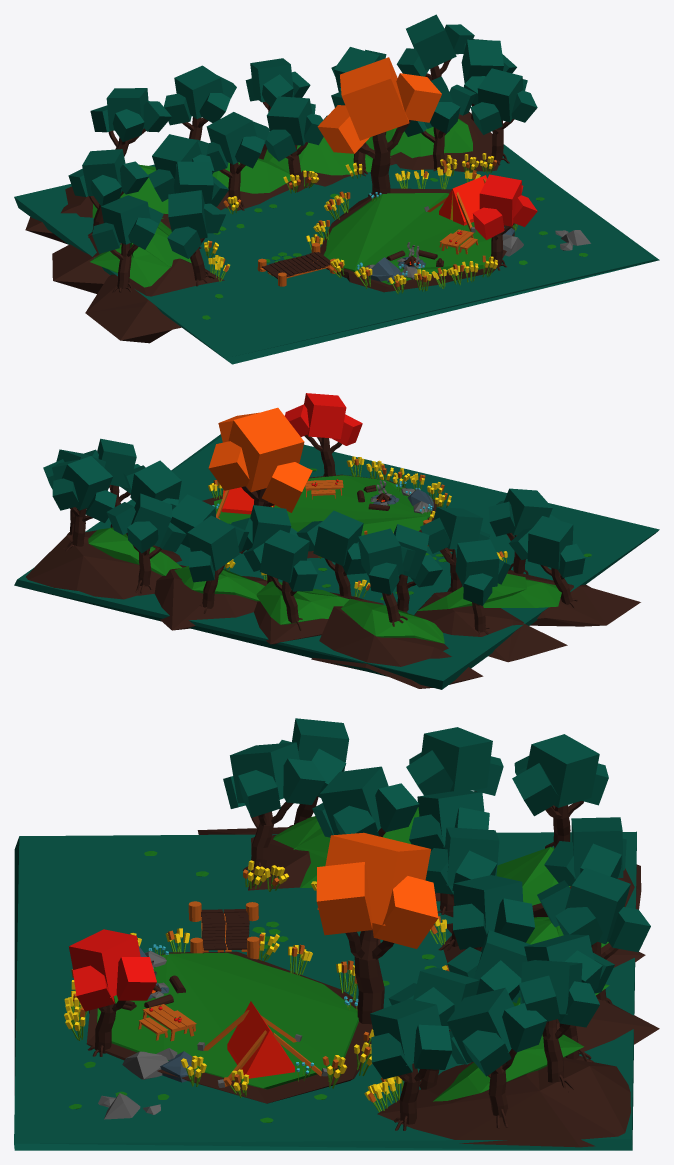
Rendered from Forest.obj.
3 renders of one model, top to bottom at view 1: azimuth 30°, elevation 25°; view 2: azimuth 150°, elevation 25°; view 3: azimuth 270°, elevation 25°, orthographic. The views are drawn at different scales.
Parts seen in each view (by area): view 1: group2136008734, group1996960513, group151683662, group603141852, group1472950353, group1052670248, group760265186, group2099061238, group1420377134, group1774111551, group684750817, group1327080236 (+22 smaller); view 2: group2136008734, group151683662, group1297782163, group1996960513, group880033640, group1242887192, group1004619122, group1776715167, group760265186, group1472950353, group1774111551, group853010250 (+21 smaller); view 3: group2136008734, group1996960513, group151683662, group1297782163, group912524470, group1327080236, group684750817, group1052670248, group1774111551, group761897651, group1458085261, group1004619122 (+24 smaller).
Boxes of the visible parts, x1,y1,x2,y2 form: group2136008734: (14, 143, 659, 364); group1996960513: (323, 193, 491, 284); group151683662: (317, 57, 441, 196); group603141852: (85, 258, 224, 343); group1472950353: (92, 195, 163, 292); group1052670248: (470, 68, 537, 165); group760265186: (163, 65, 236, 140); group2099061238: (206, 112, 269, 210); group1420377134: (68, 149, 148, 238); group1774111551: (472, 174, 537, 270); group684750817: (90, 88, 171, 156); group1327080236: (167, 190, 225, 286); group2136008734: (14, 434, 659, 689); group151683662: (208, 407, 312, 553); group1297782163: (26, 530, 181, 599); group1996960513: (214, 475, 433, 535); group880033640: (311, 606, 483, 688); group1242887192: (414, 591, 567, 662); group1004619122: (52, 456, 116, 551); group1776715167: (106, 493, 186, 593); group760265186: (243, 530, 317, 630); group1472950353: (509, 516, 585, 608); group1774111551: (285, 393, 362, 476); group853010250: (154, 564, 267, 630); group2136008734: (14, 831, 636, 1150); group1996960513: (97, 953, 358, 1089); group151683662: (316, 832, 438, 1024); group1297782163: (377, 1055, 630, 1147); group912524470: (447, 987, 546, 1128); group1327080236: (223, 742, 325, 877); group684750817: (512, 734, 608, 848); group1052670248: (370, 999, 452, 1130); group1774111551: (69, 929, 156, 1056); group761897651: (537, 867, 650, 1004); group1458085261: (312, 766, 419, 837); group1004619122: (519, 960, 599, 1092).
Bounding box in the file's own units: 4.24 × 1.43 × 3.31.
